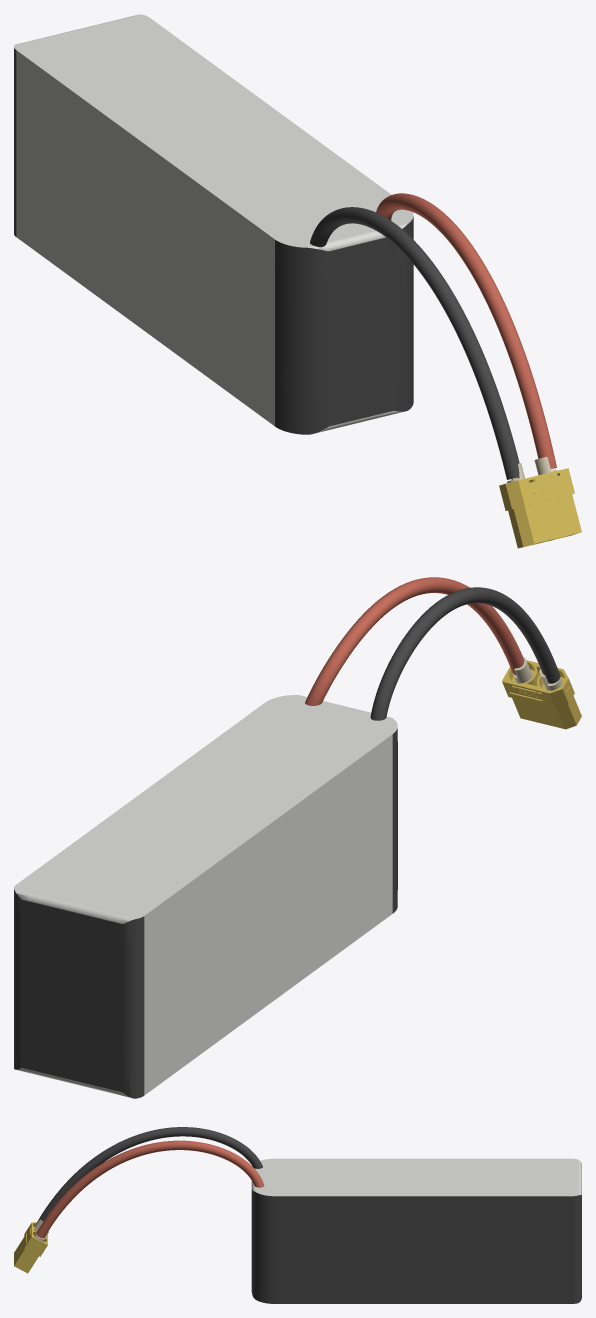
Rendered from tattu_battery.glb.
3 renders of one model, top to bottom at view 1: azimuth 30°, elevation 25°; view 2: azimuth 150°, elevation 25°; view 3: azimuth 270°, elevation 25°, orthographic. The views are drawn at different scales.
Parts seen in each view (by area): view 1: Object_2; view 2: Object_2; view 3: Object_2.
Part boxes in pixels (bbox=[...]): Object_2: bbox=[14, 14, 581, 548]; Object_2: bbox=[14, 577, 581, 1098]; Object_2: bbox=[14, 1127, 581, 1303].
Bounding box in the file's own units: 47 × 86.53 × 301.
